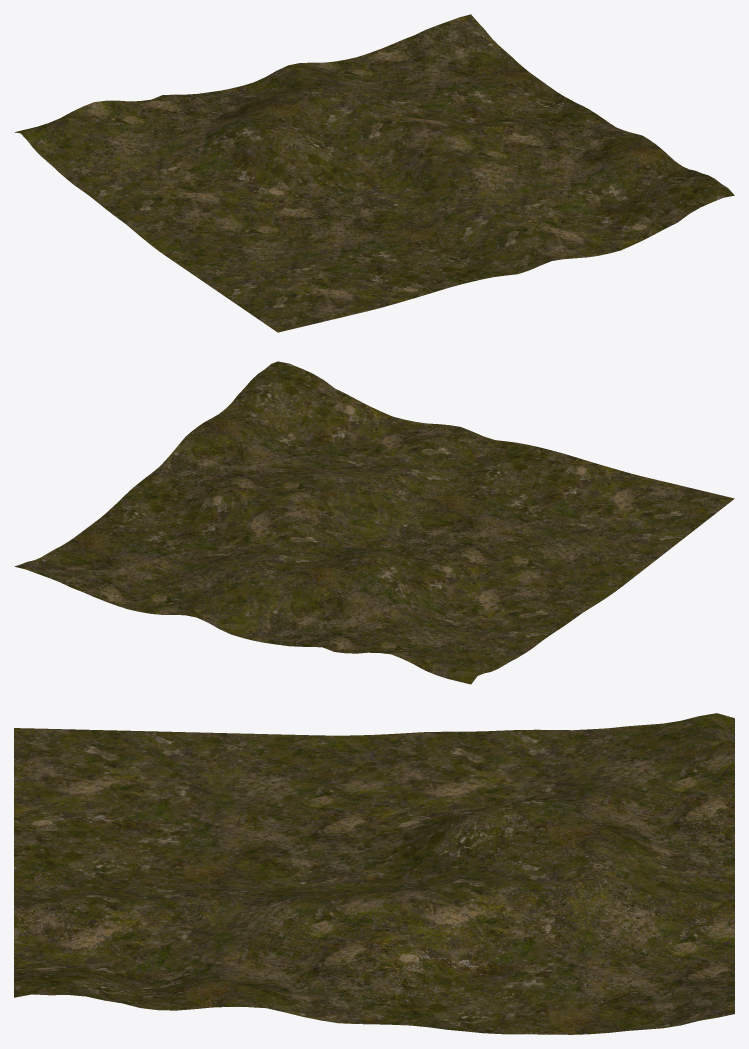
Rendered from Field.FBX.
3 views of the same model, one above another, from view 1: azimuth 30°, elevation 25°; view 2: azimuth 150°, elevation 25°; view 3: azimuth 270°, elevation 25° (orthographic). The views are drawn at different scales.
Visible parts, largest first — view 1: Field; view 2: Field; view 3: Field.
Part boxes in pixels (box(x1,y1,x2,y2)): Field: box(15, 14, 734, 332); Field: box(14, 361, 734, 684); Field: box(14, 713, 734, 1034).
Size of the model in its own units: 4000 by 284 by 4000.
